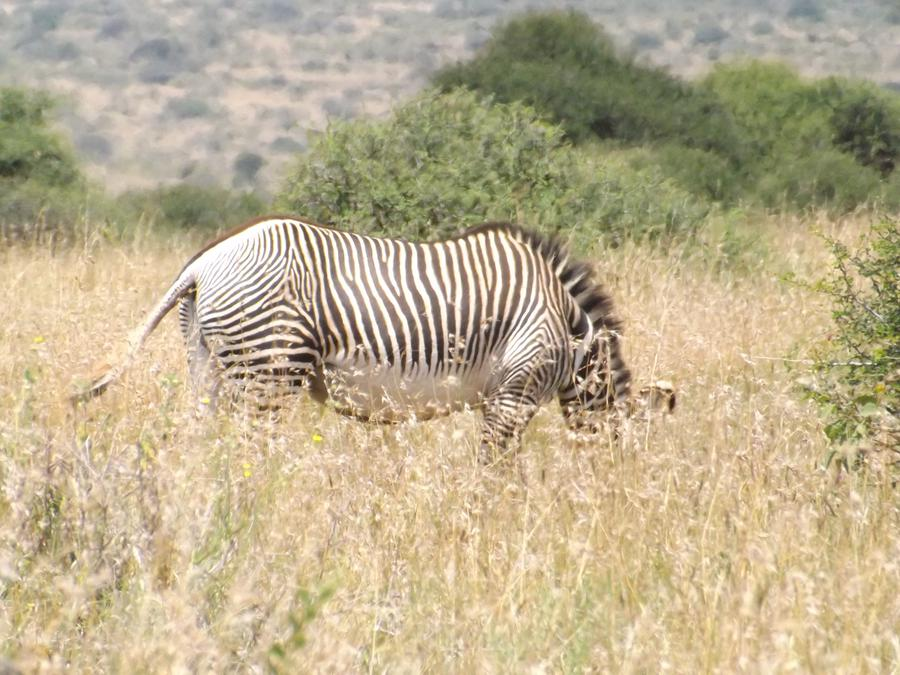zebra_grevys: (180, 204, 542, 410)
